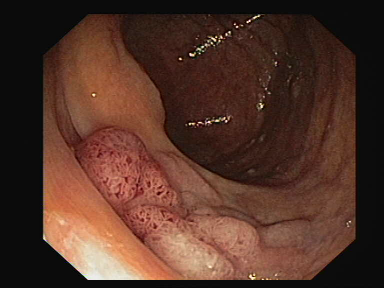polyp: (61, 99, 300, 276)
